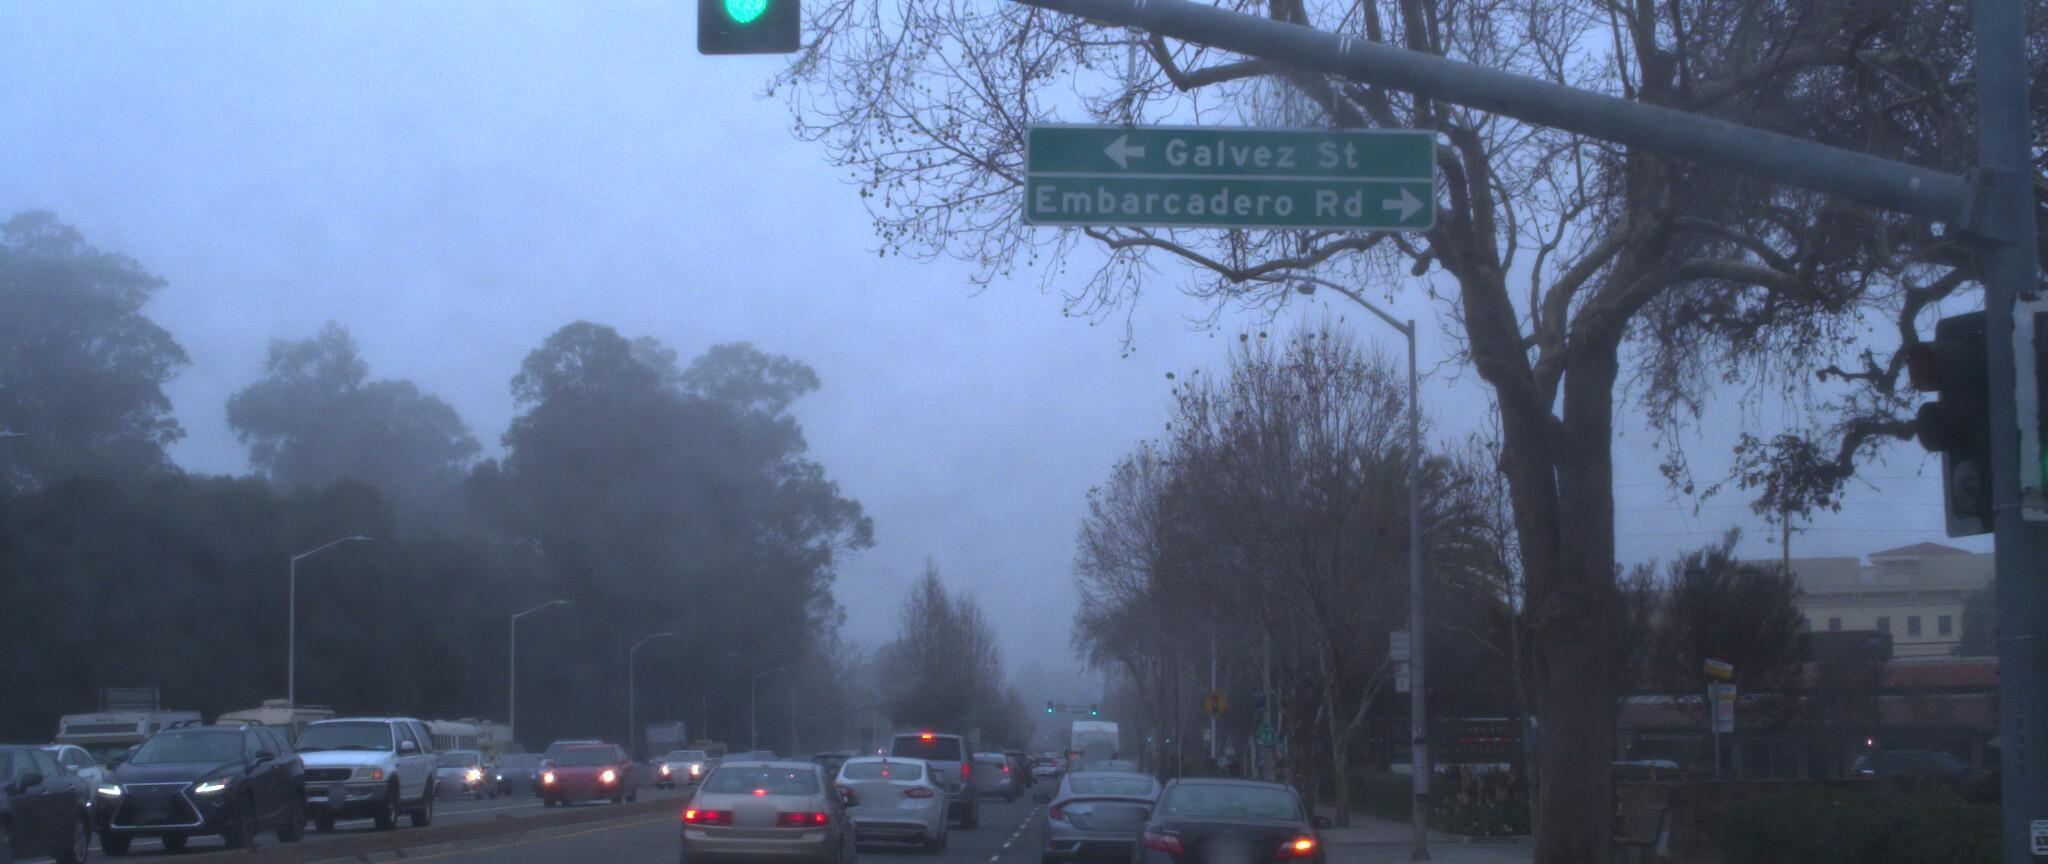car: (74, 703, 329, 860), (666, 724, 869, 864), (264, 696, 455, 821), (1132, 756, 1337, 864), (810, 713, 957, 848), (1025, 750, 1179, 864), (0, 732, 119, 864), (0, 726, 132, 817), (878, 722, 991, 817), (543, 726, 658, 790)
other_vehicle: (42, 690, 218, 816)
